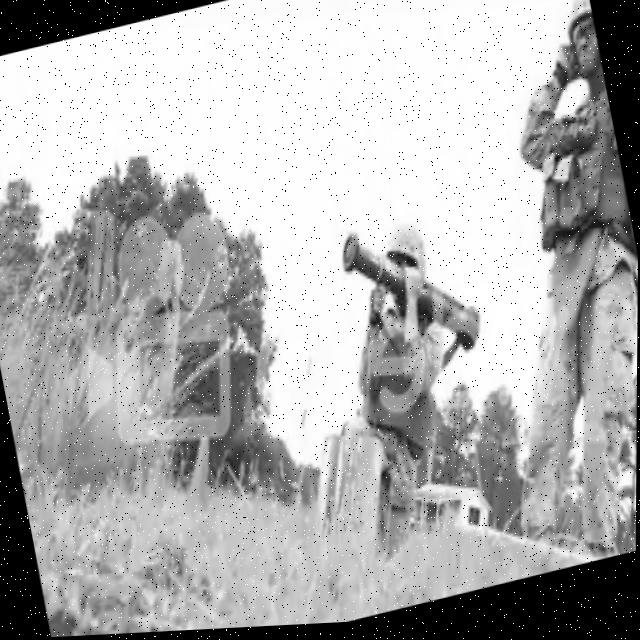rocket: (318, 204, 505, 394)
